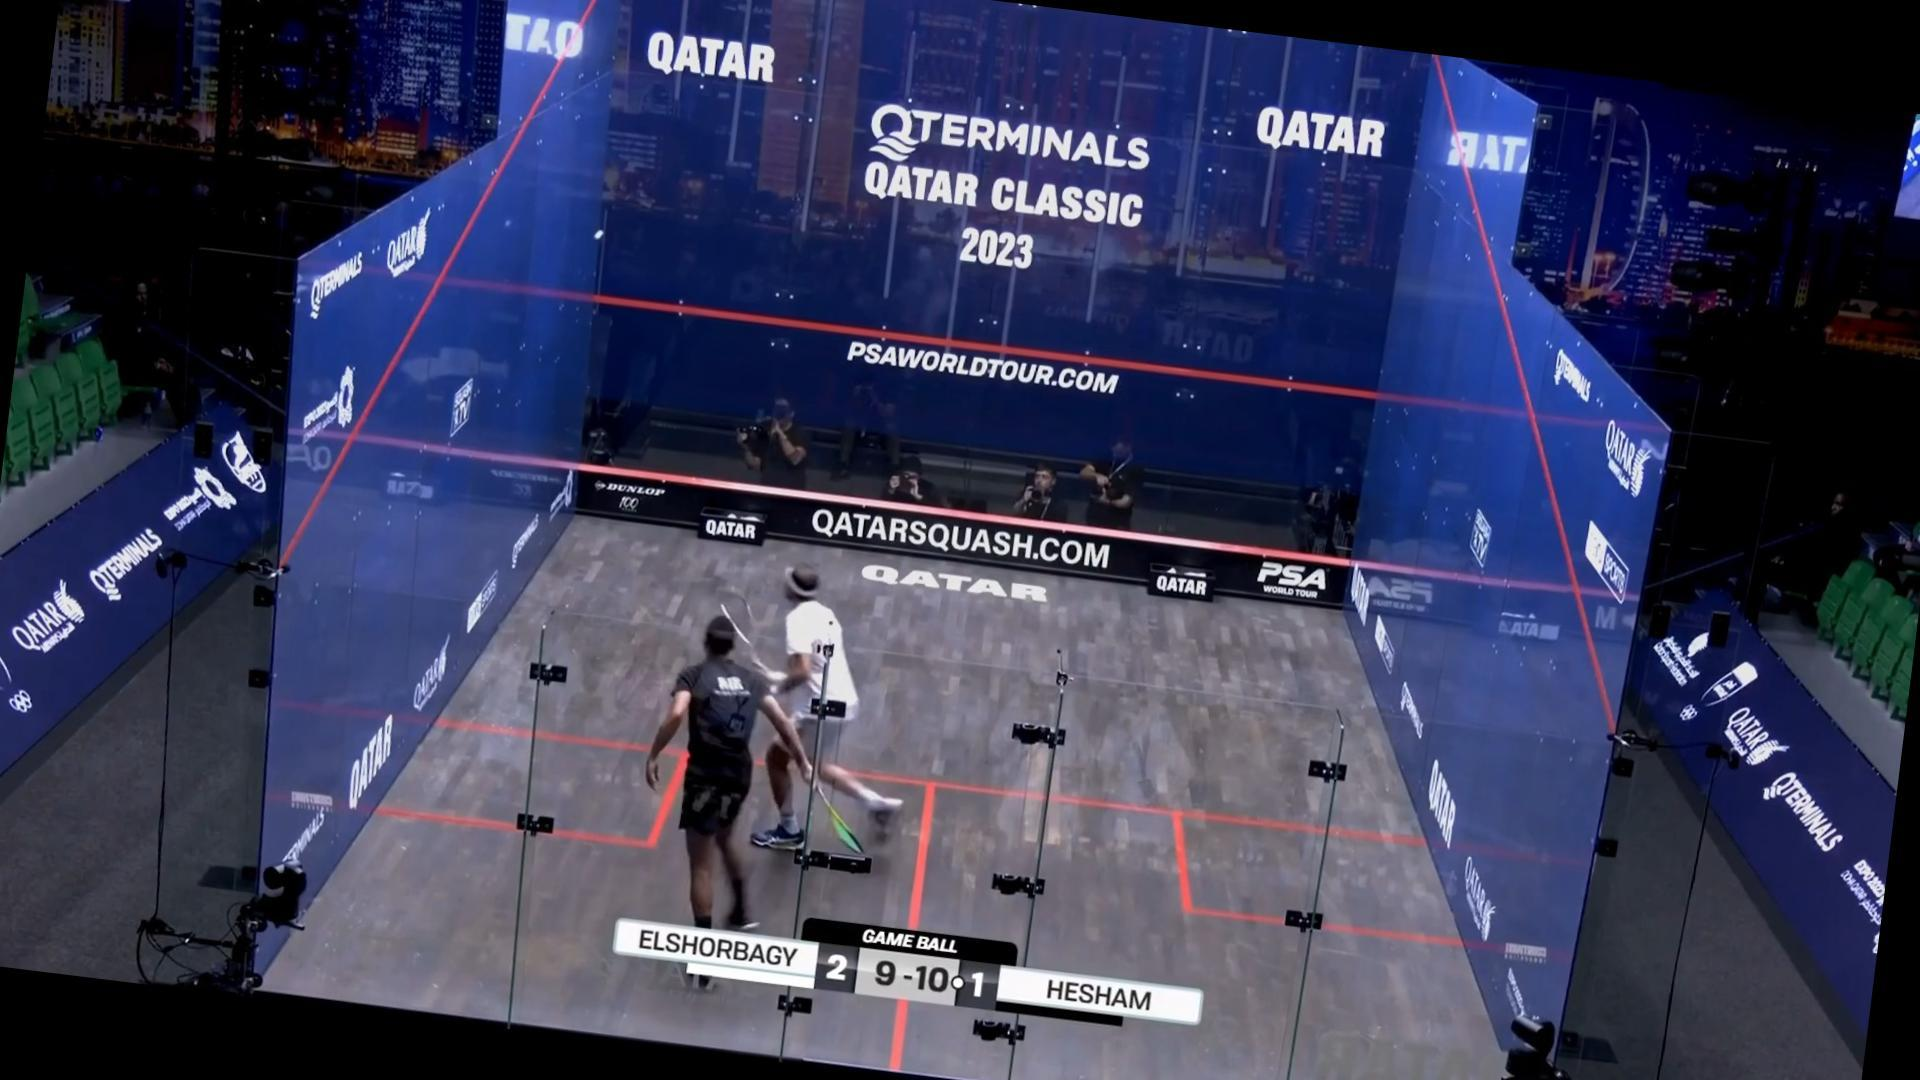Squash-Ball: (585, 220, 615, 251)
